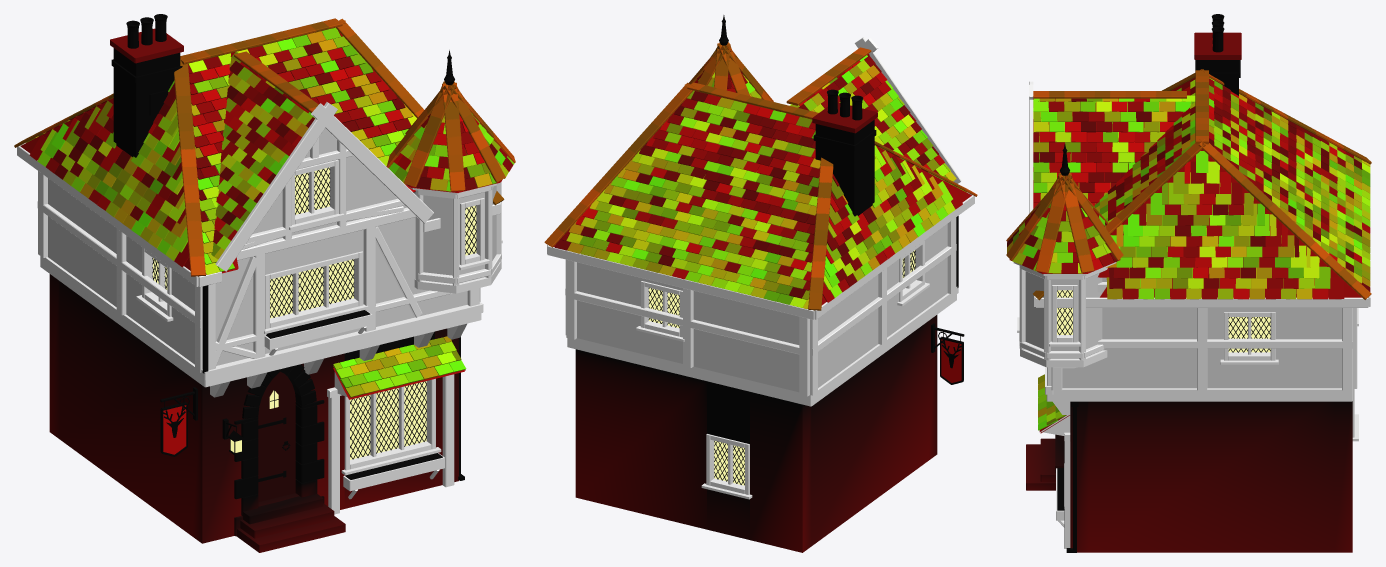
The model's file is SilverbrookTownhouse4.fbx.
The picture shows the model from 3 angles, left to right: view 1: azimuth 30°, elevation 25°; view 2: azimuth 150°, elevation 25°; view 3: azimuth 270°, elevation 25°; orthographic projection. The views are drawn at different scales.
Parts seen in each view (by area): view 1: SM_SBTownhouse4_Roof, SM_SBTownhouse4_Timber, SM_SBTownhouse4_Masonry, SM_SBTownhouse4_Plaster, SM_SBTownhouse4_Details; view 2: SM_SBTownhouse4_Roof, SM_SBTownhouse4_Masonry, SM_SBTownhouse4_Timber, SM_SBTownhouse4_Plaster, SM_SBTownhouse4_Details; view 3: SM_SBTownhouse4_Roof, SM_SBTownhouse4_Masonry, SM_SBTownhouse4_Timber, SM_SBTownhouse4_Plaster, SM_SBTownhouse4_Details.
Part boxes in pixels (x1,y1,x2,y2): SM_SBTownhouse4_Roof: [14, 18, 515, 399]; SM_SBTownhouse4_Timber: [17, 102, 502, 514]; SM_SBTownhouse4_Masonry: [49, 28, 458, 552]; SM_SBTownhouse4_Plaster: [48, 128, 496, 365]; SM_SBTownhouse4_Details: [126, 14, 476, 501]; SM_SBTownhouse4_Roof: [544, 42, 977, 310]; SM_SBTownhouse4_Masonry: [575, 102, 937, 552]; SM_SBTownhouse4_Timber: [547, 37, 974, 499]; SM_SBTownhouse4_Plaster: [577, 224, 947, 392]; SM_SBTownhouse4_Details: [648, 15, 964, 485]; SM_SBTownhouse4_Roof: [1006, 69, 1371, 433]; SM_SBTownhouse4_Masonry: [1026, 32, 1352, 552]; SM_SBTownhouse4_Timber: [1013, 81, 1370, 548]; SM_SBTownhouse4_Plaster: [1025, 271, 1341, 388]; SM_SBTownhouse4_Details: [1057, 14, 1270, 552].
Size of the model in its own units: 678 by 888 by 693.
